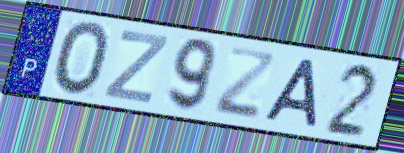2: (322, 61, 380, 142)
9: (164, 37, 219, 114)
A: (261, 56, 320, 130)
O: (50, 19, 112, 98)
Z: (100, 28, 172, 106), (211, 44, 279, 123)
